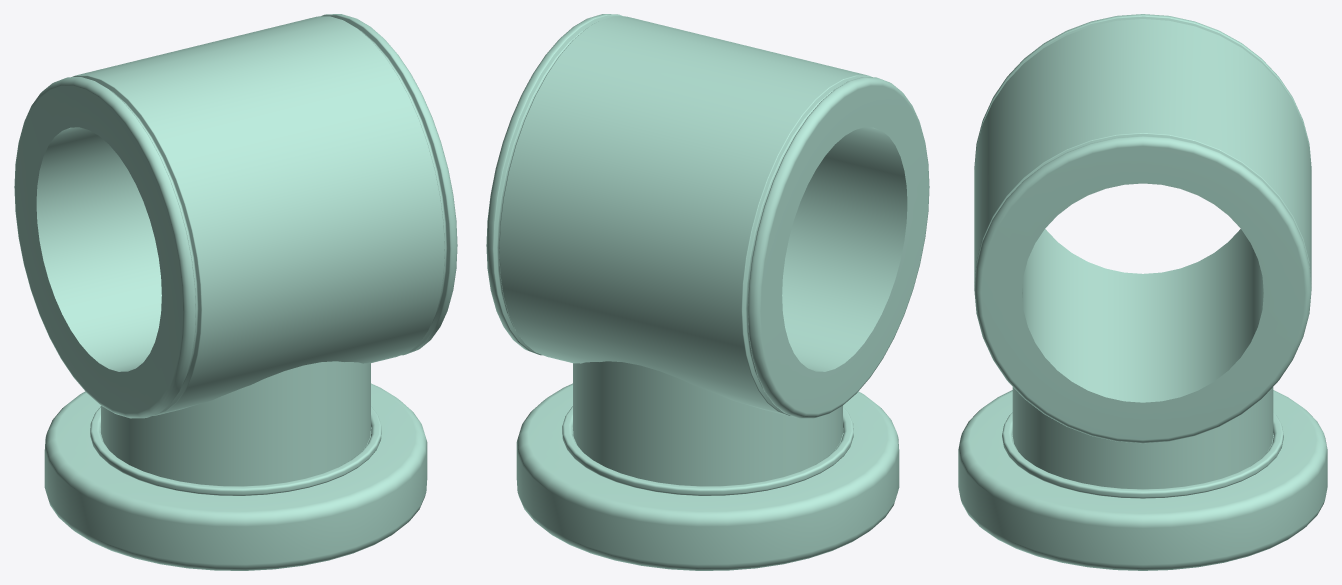
Rendered from SM_Robot_Hand_part02.fbx.
The picture shows the model from 3 angles, left to right: view 1: azimuth 30°, elevation 25°; view 2: azimuth 150°, elevation 25°; view 3: azimuth 270°, elevation 25°; orthographic projection. The views are drawn at different scales.
Parts seen in each view (by area): view 1: SM_Robot_Hand_part02; view 2: SM_Robot_Hand_part02; view 3: SM_Robot_Hand_part02.
Part boxes in pixels (<box>): SM_Robot_Hand_part02: <box>14,14,457,570</box>; SM_Robot_Hand_part02: <box>486,14,929,570</box>; SM_Robot_Hand_part02: <box>958,14,1327,570</box>.
Size of the model in its own units: 36.36 by 45.7 by 36.36.
